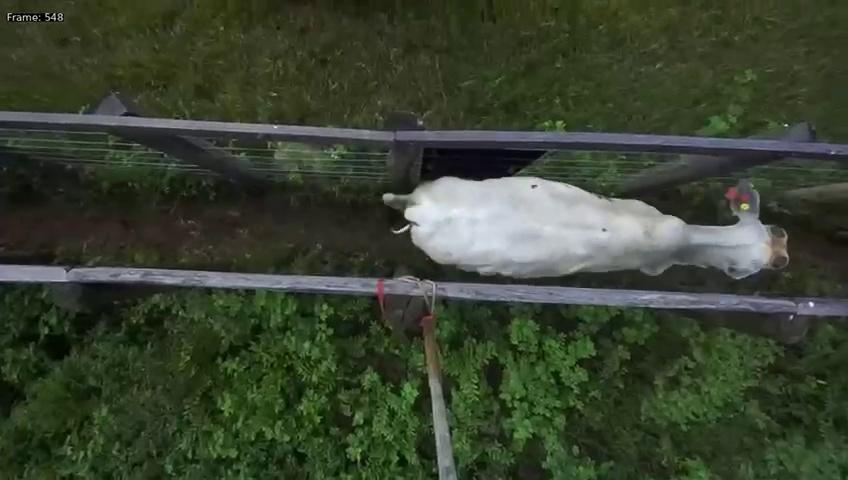cattle: (381, 166, 791, 283)
